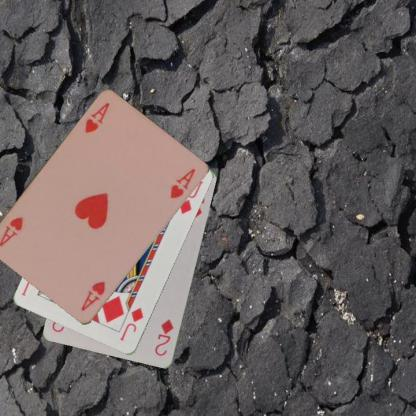2d: (152, 316, 175, 358)
Ah: (78, 279, 108, 313), (82, 100, 111, 135)
Jd: (117, 305, 145, 343)
